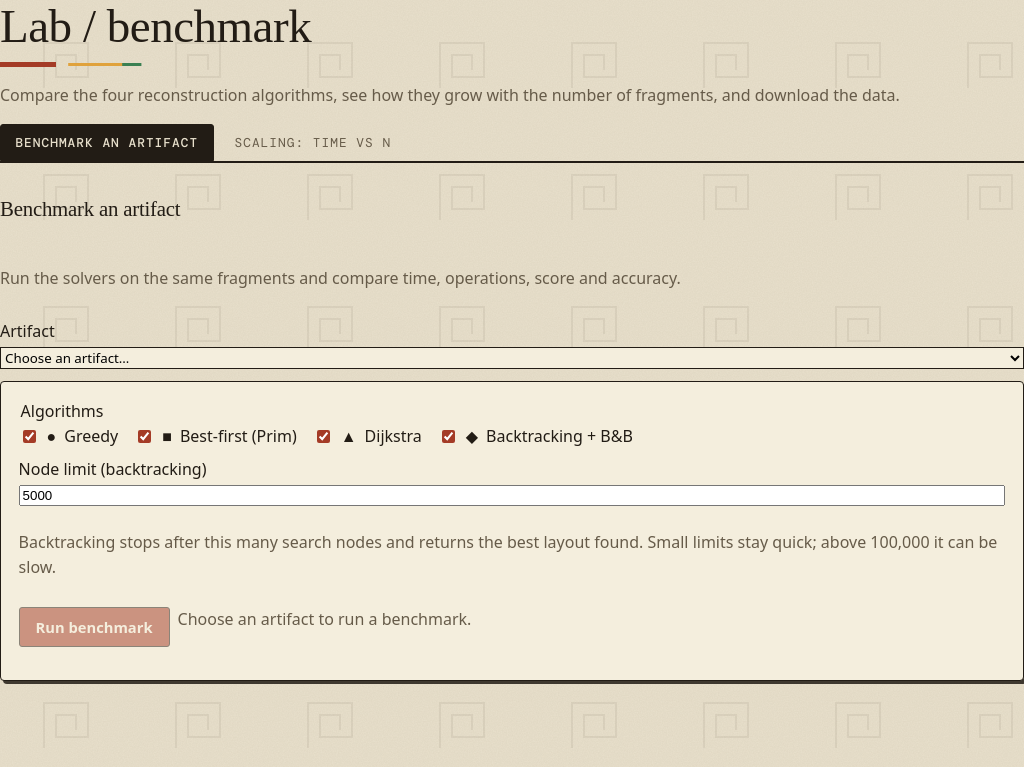
it: LabPage: benchmark › expands the per-counter breakdown of operations
This screenshot has width=1024, height=767.
Select "Mughal tile panel (16 fragments)" in the dropdown labelled "Artifact" at (512, 358), box [0, 347, 1023, 369]
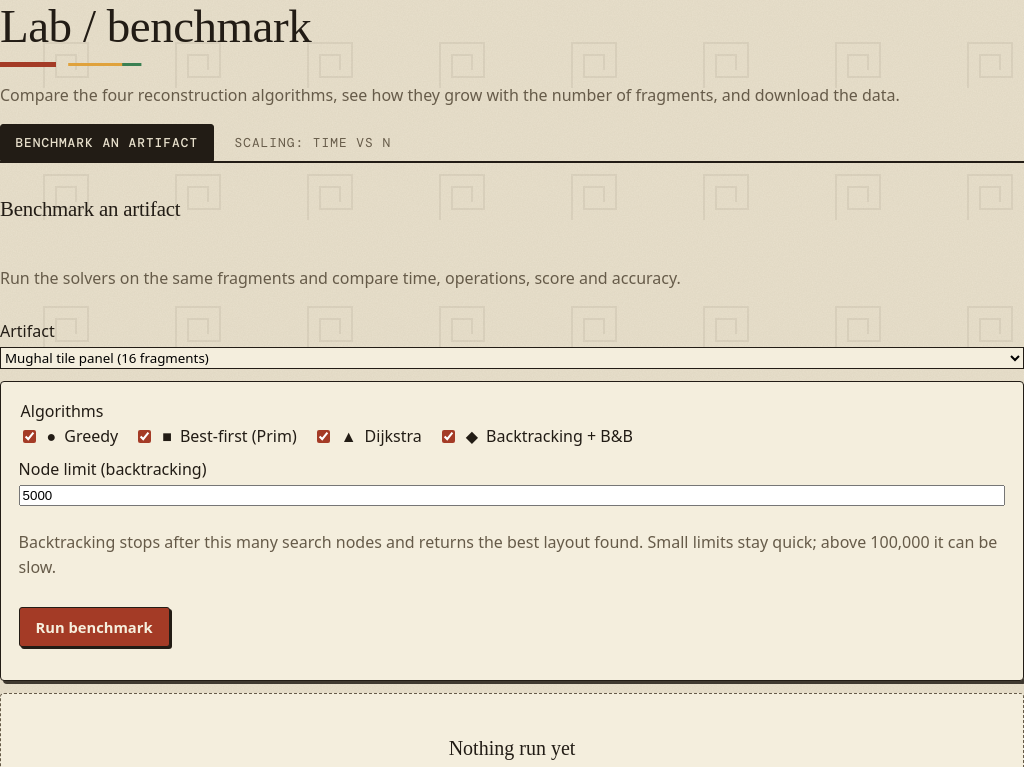
Click the button "Run benchmark" at (94, 627), box [19, 607, 170, 647]
(page scrolled)
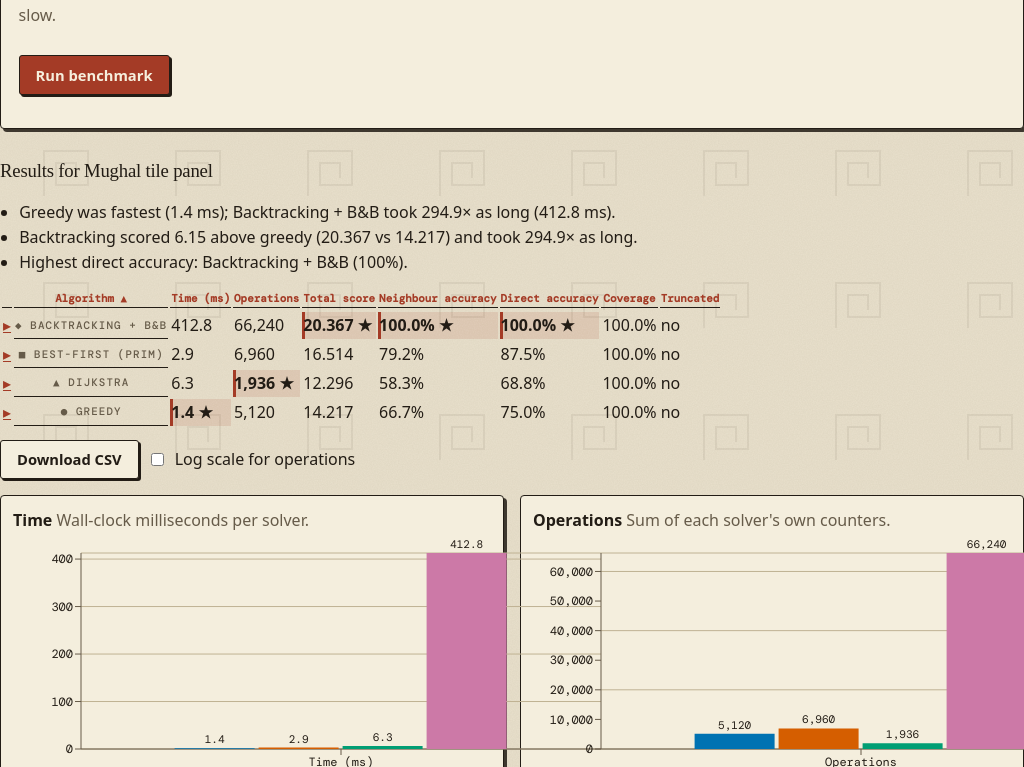
Click the button named "Show operation counters for Dijkstra" at (7, 383), box [3, 371, 11, 396]
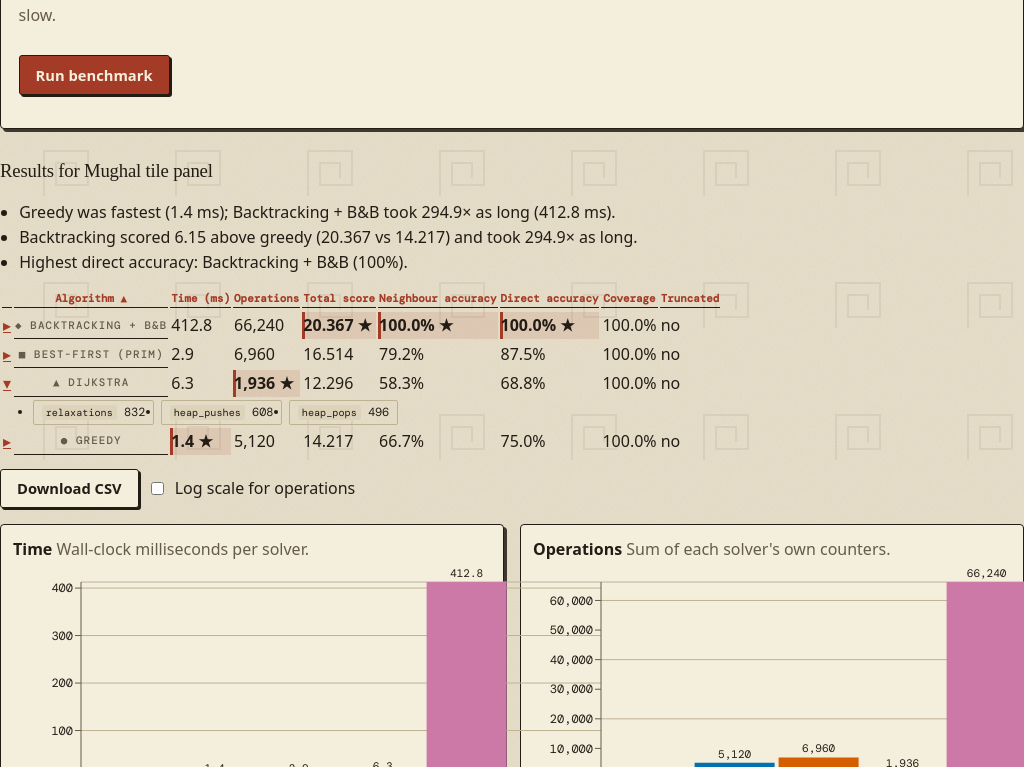
Now the list named "Operation counters for Dijkstra" is shown, box [33, 400, 398, 425]
